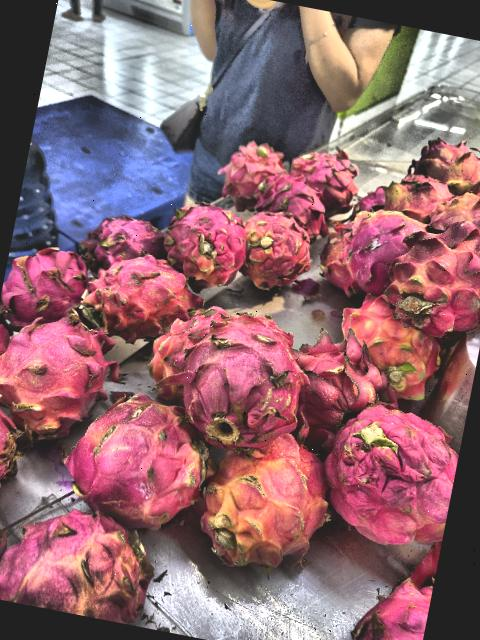buah-naga-belum-matang: (198, 423, 328, 578), (0, 503, 162, 626), (375, 206, 480, 337), (336, 294, 449, 393), (340, 198, 426, 294), (403, 131, 480, 196), (370, 162, 448, 226), (434, 182, 480, 238)
buah-naga-matang: (314, 401, 464, 545), (70, 387, 213, 524), (182, 312, 313, 437), (0, 300, 116, 439), (280, 322, 371, 440), (84, 247, 198, 340), (157, 200, 254, 300), (0, 231, 97, 328), (231, 209, 320, 296), (333, 563, 433, 640), (280, 134, 361, 205), (214, 126, 278, 198), (256, 178, 330, 236), (80, 208, 162, 260), (0, 388, 25, 512)
